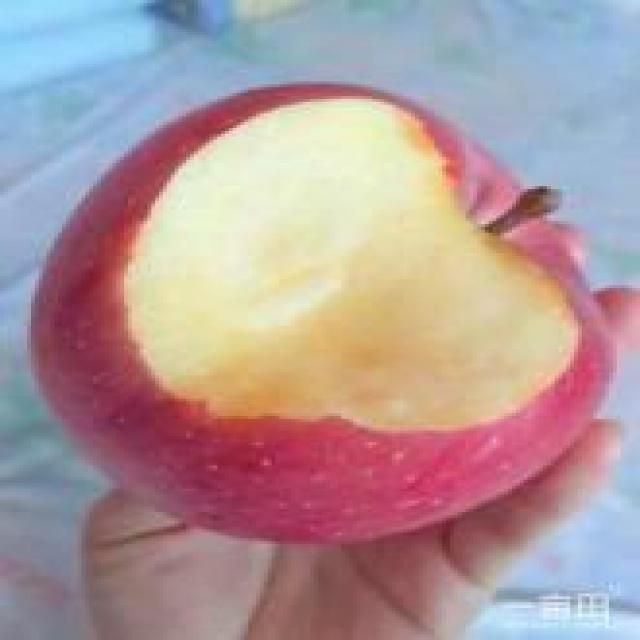Rotten: (19, 74, 618, 553)
